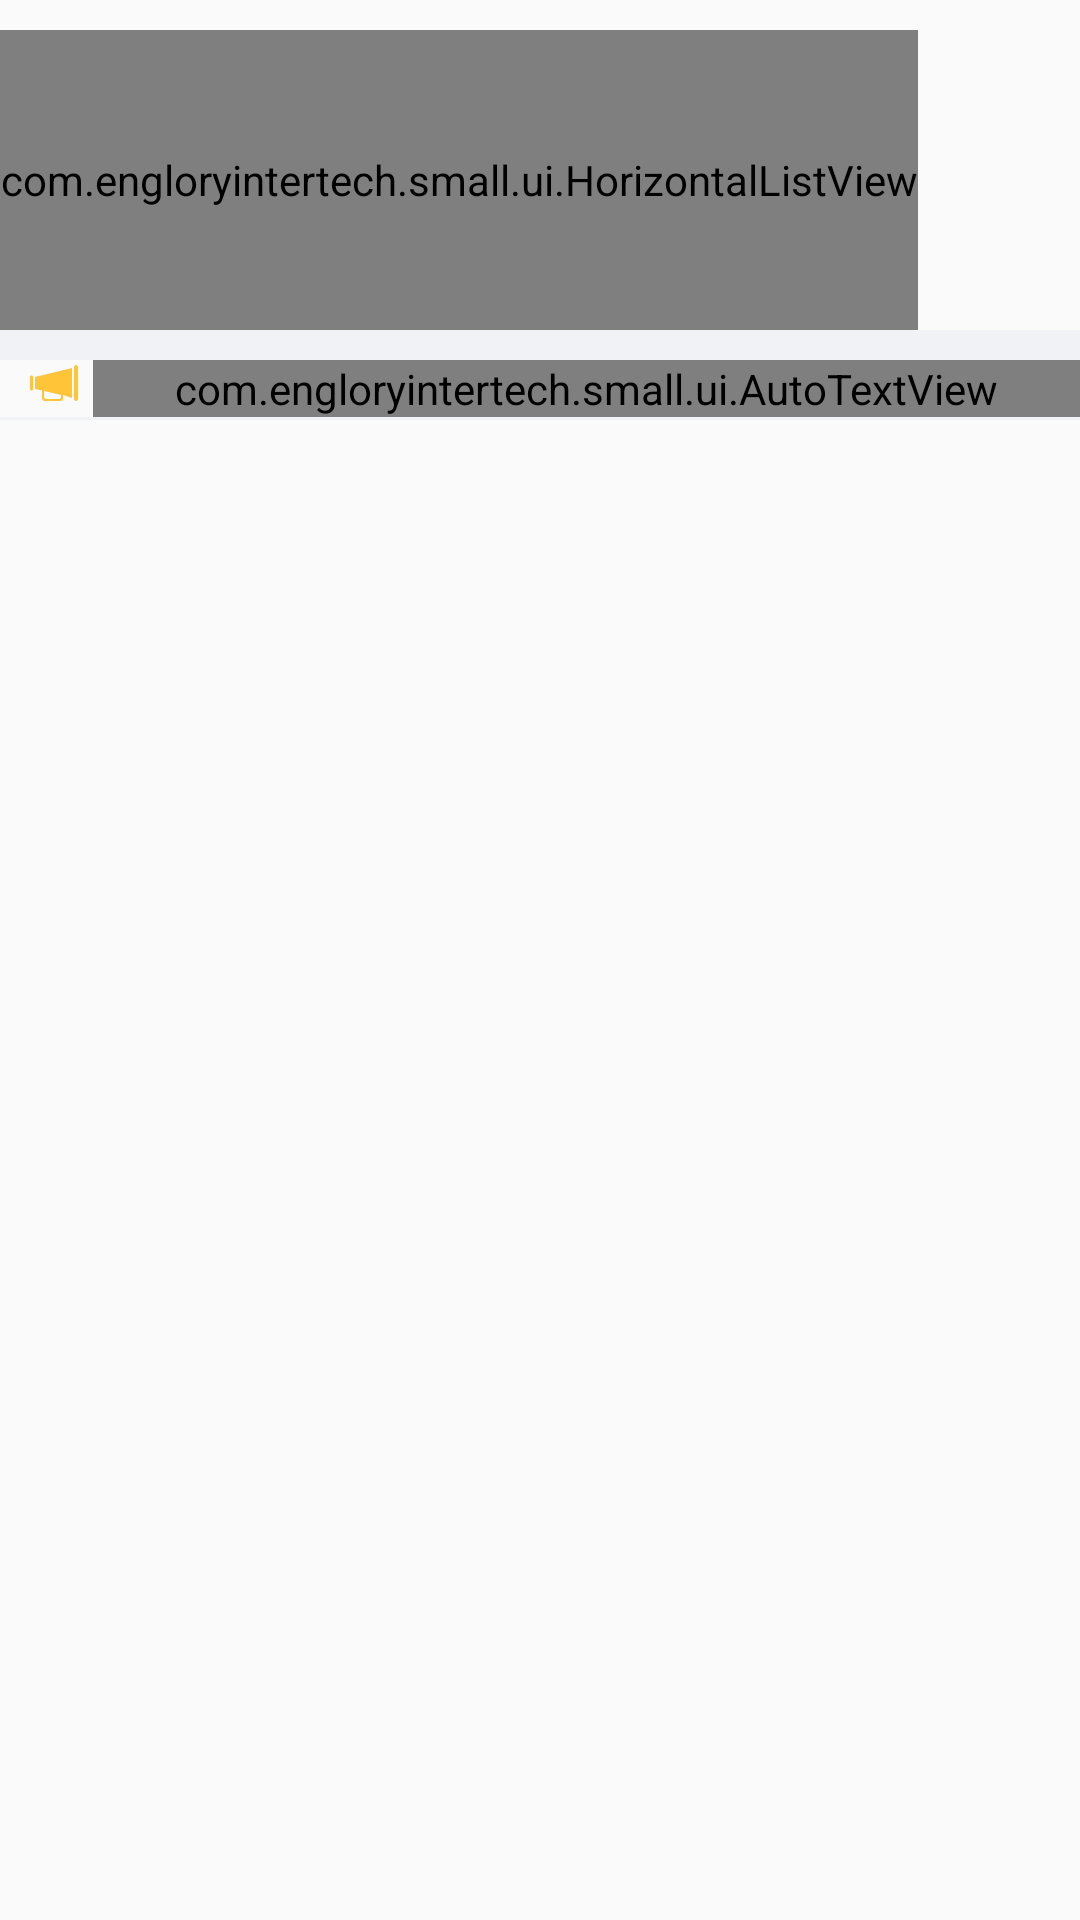

Point at icon controls on the screen. Image size 1080 x 1920, points as (x,y).
home laba: (54,383)
